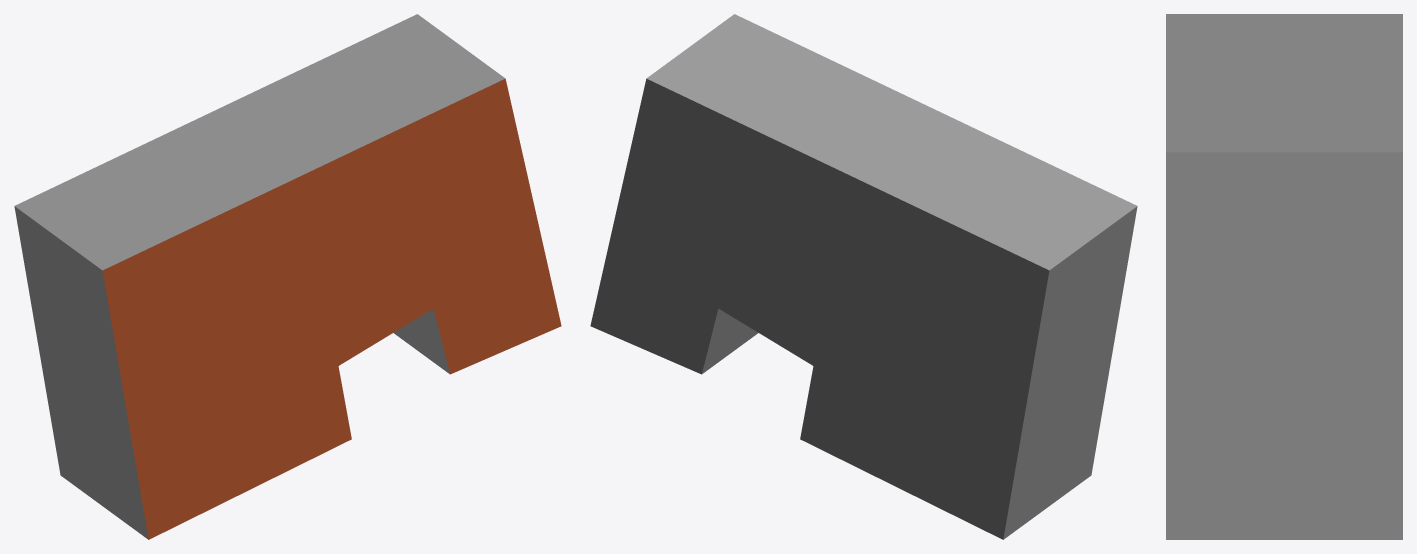
File: construction_1459_assumed_A_Casa_h6m.obj
The picture shows the model from 3 angles, left to right: view 1: azimuth 30°, elevation 25°; view 2: azimuth 150°, elevation 25°; view 3: azimuth 270°, elevation 25°; orthographic projection. The views are drawn at different scales.
Parts seen in each view (by area): view 1: construction_1459_assumed_A_Casa; view 2: construction_1459_assumed_A_Casa; view 3: construction_1459_assumed_A_Casa.
Part boxes in pixels (left/top/right/bottom): construction_1459_assumed_A_Casa: left=14, top=14, right=561, bottom=539; construction_1459_assumed_A_Casa: left=590, top=14, right=1137, bottom=539; construction_1459_assumed_A_Casa: left=1166, top=14, right=1402, bottom=539.
Bounding box in the file's own units: 18.04 × 14.06 × 6.
